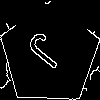J: (24, 29, 74, 78)
